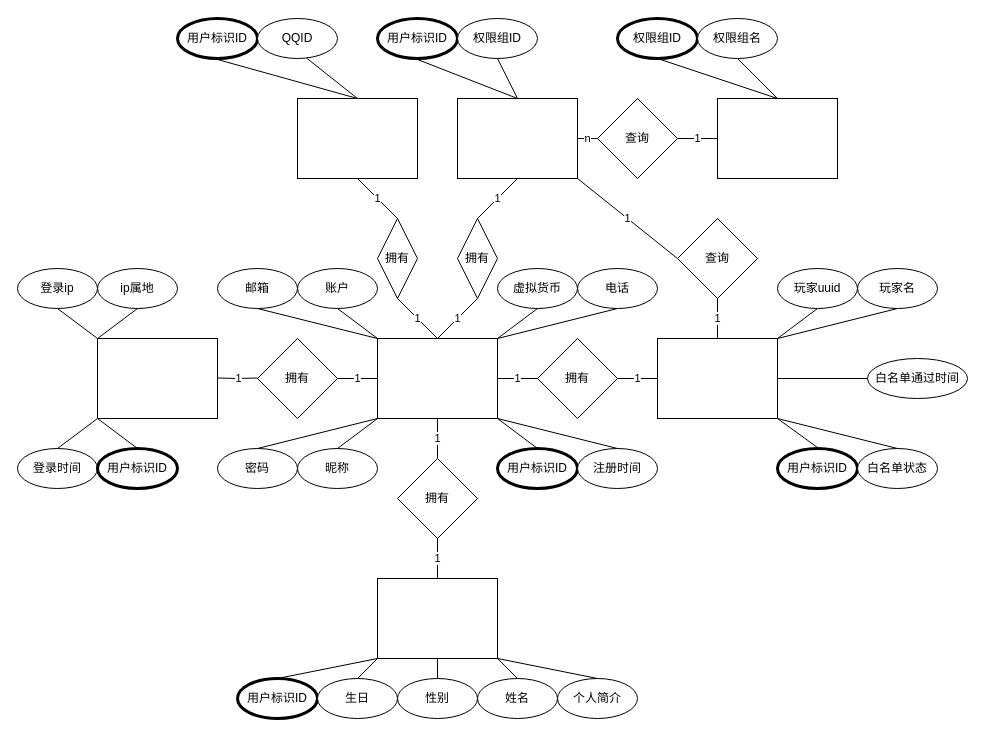
Image size: 985x737. Some labels were removed from this diagram. Each missing label, with the centre of its shape:
"权限组列表" belongs at [777,138].
"游戏数据" belongs at [717,378].
"用户" belongs at [437,378].
"用户QQ关联" belongs at [357,138].
"用户个人信息" belongs at [437,618].
"用户权限关联" belongs at [517,138].
"登陆记录" belongs at [157,378].
